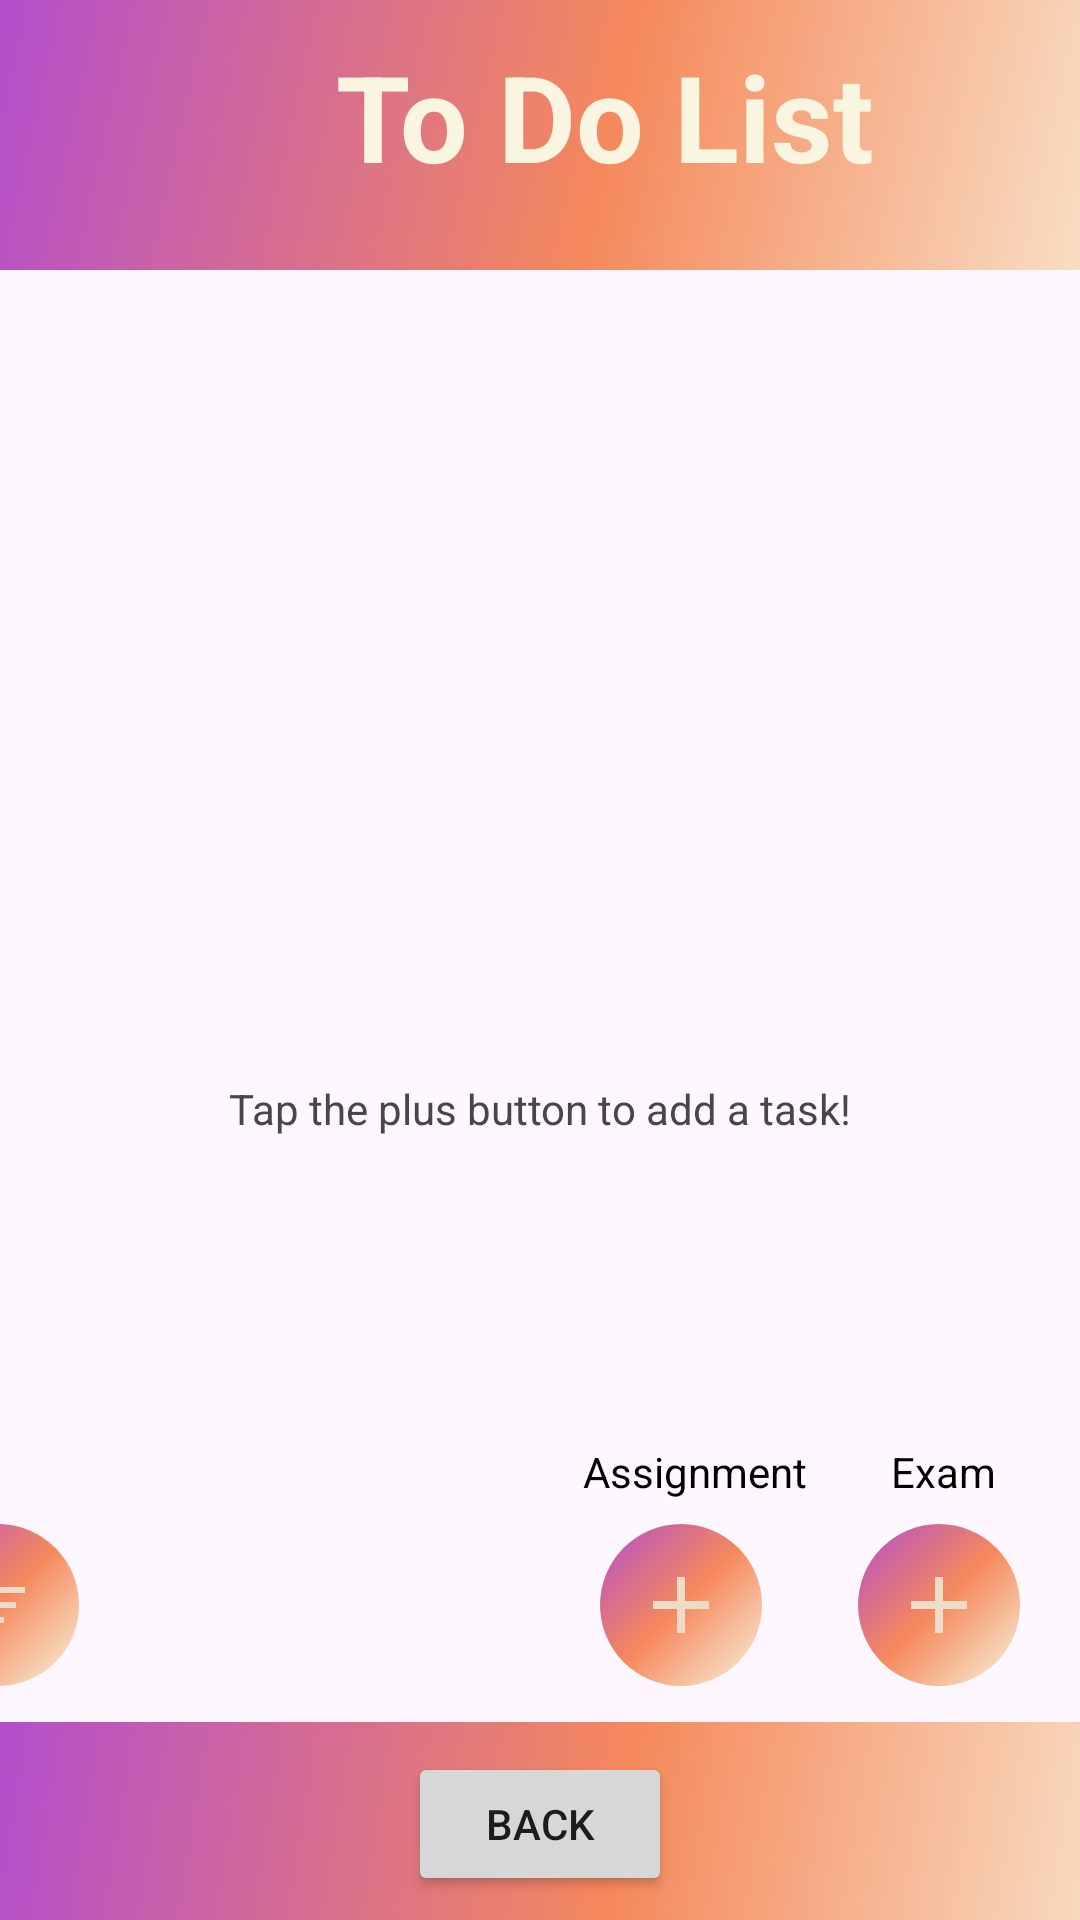

Point at icon controls on the screen. Image size 1080x1920, points as [x,y].
add: [681,1605], [939,1605]
